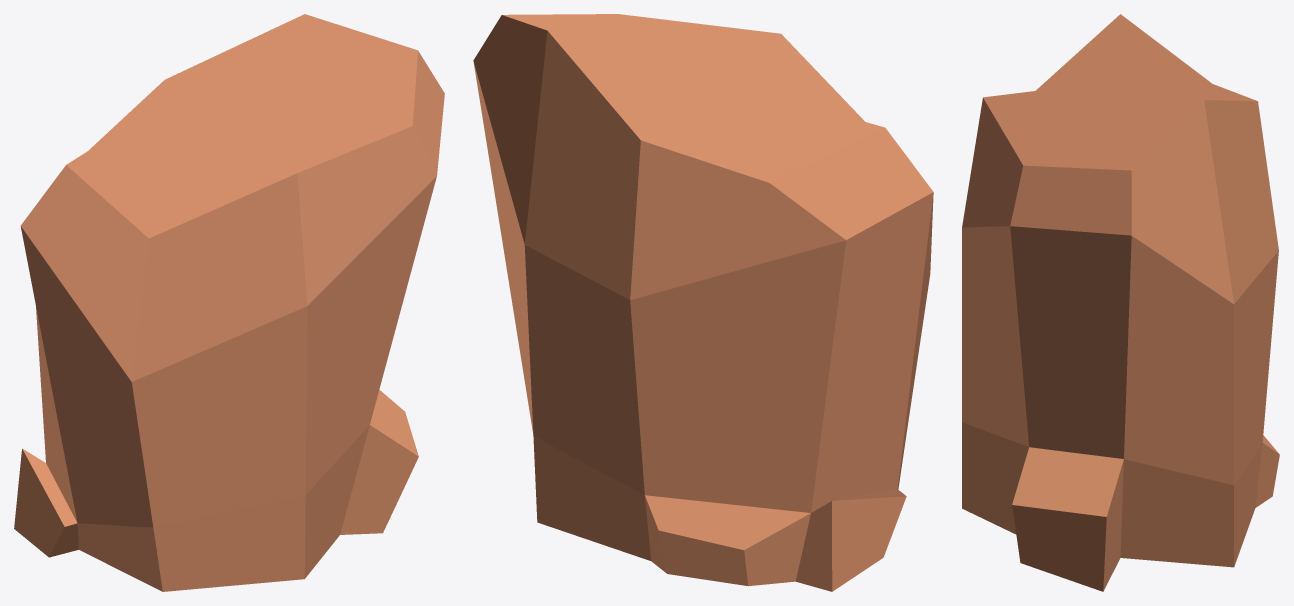
File: Stone012.fbx
3 views of the same model, side by side, from view 1: azimuth 30°, elevation 25°; view 2: azimuth 150°, elevation 25°; view 3: azimuth 270°, elevation 25° (orthographic). The views are drawn at different scales.
Parts seen in each view (by area): view 1: Stone0"0; view 2: Stone0"0; view 3: Stone0"0.
Part boxes in pixels (<box>): Stone0"0: <box>14,14,444,591</box>; Stone0"0: <box>473,14,933,591</box>; Stone0"0: <box>962,14,1279,591</box>.
Size of the model in its own units: 1.96 by 1.98 by 1.21.
